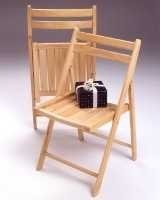obstacle: (27, 1, 141, 195)
